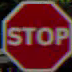Stop: (4, 11, 67, 56)
